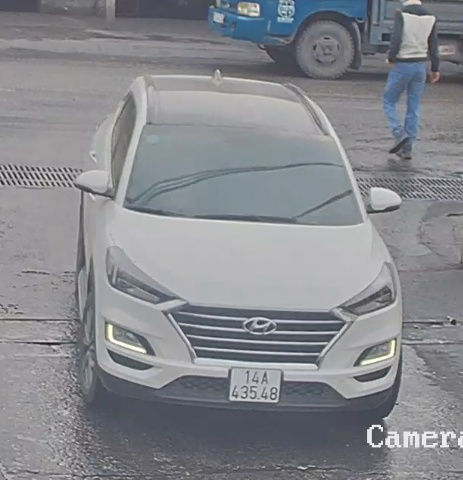vehicle plate: (229, 361, 283, 409)
